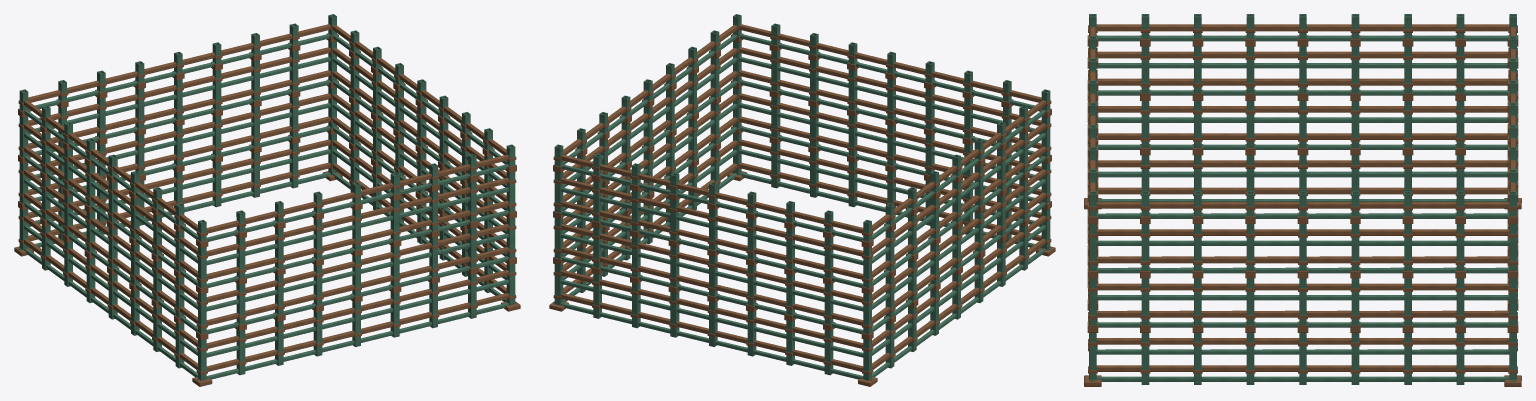
3 views of the same model, side by side, from view 1: azimuth 30°, elevation 25°; view 2: azimuth 150°, elevation 25°; view 3: azimuth 270°, elevation 25° (orthographic). The views are drawn at different scales.
Visible parts, largest first — view 1: no part large enough to name; view 2: no part large enough to name; view 3: Tier 0 side 1 post 1, Tier 0 side 1 post 3, Tier 0 side 1 post 5, Tier 0 side 1 post 7, Tier 1 side 1 post 1, Tier 1 side 1 post 3, Tier 1 side 1 post 5, Tier 1 side 1 post 7, Tier 2 side 3 post 1, Tier 2 side 3 post 3, Tier 2 side 3 post 5, Tier 2 side 3 post 7.
Boxes of the visible parts, box(x1,y1,x2,y2) form: Tier 0 side 1 post 1: box(1141, 333, 1149, 384); Tier 0 side 1 post 3: box(1246, 333, 1254, 384); Tier 0 side 1 post 5: box(1351, 333, 1359, 384); Tier 0 side 1 post 7: box(1456, 333, 1464, 384); Tier 1 side 1 post 1: box(1141, 278, 1149, 325); Tier 1 side 1 post 3: box(1246, 278, 1254, 325); Tier 1 side 1 post 5: box(1351, 278, 1359, 325); Tier 1 side 1 post 7: box(1456, 278, 1464, 325); Tier 2 side 3 post 1: box(1456, 46, 1464, 93); Tier 2 side 3 post 3: box(1351, 46, 1359, 93); Tier 2 side 3 post 5: box(1246, 46, 1254, 93); Tier 2 side 3 post 7: box(1141, 46, 1149, 93).
Bounding box in the file's own units: 3.75 × 1.8 × 3.75.
2 materials, 2 textured.
